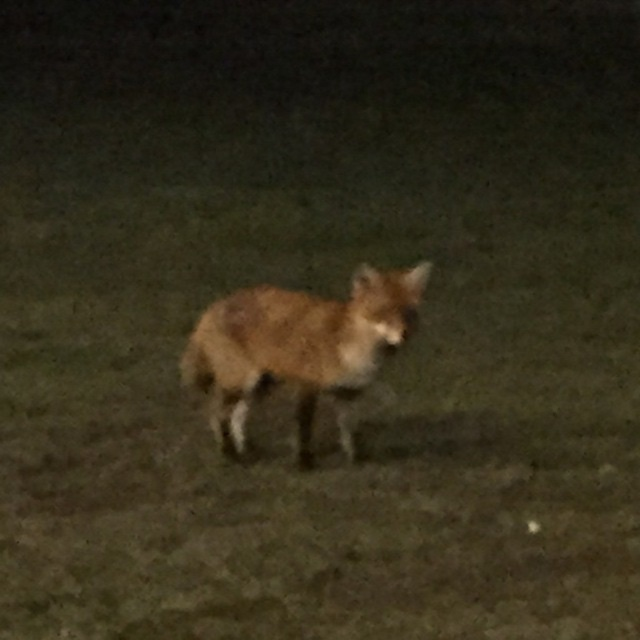Fox: (184, 254, 439, 478)
